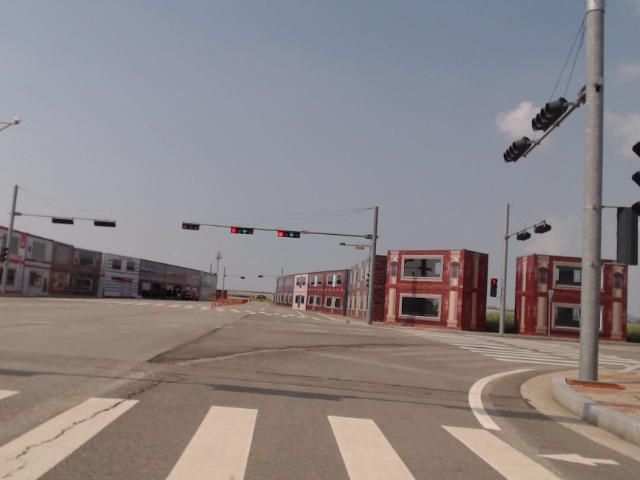left_green_4: (231, 227, 253, 235), (278, 231, 299, 238)
